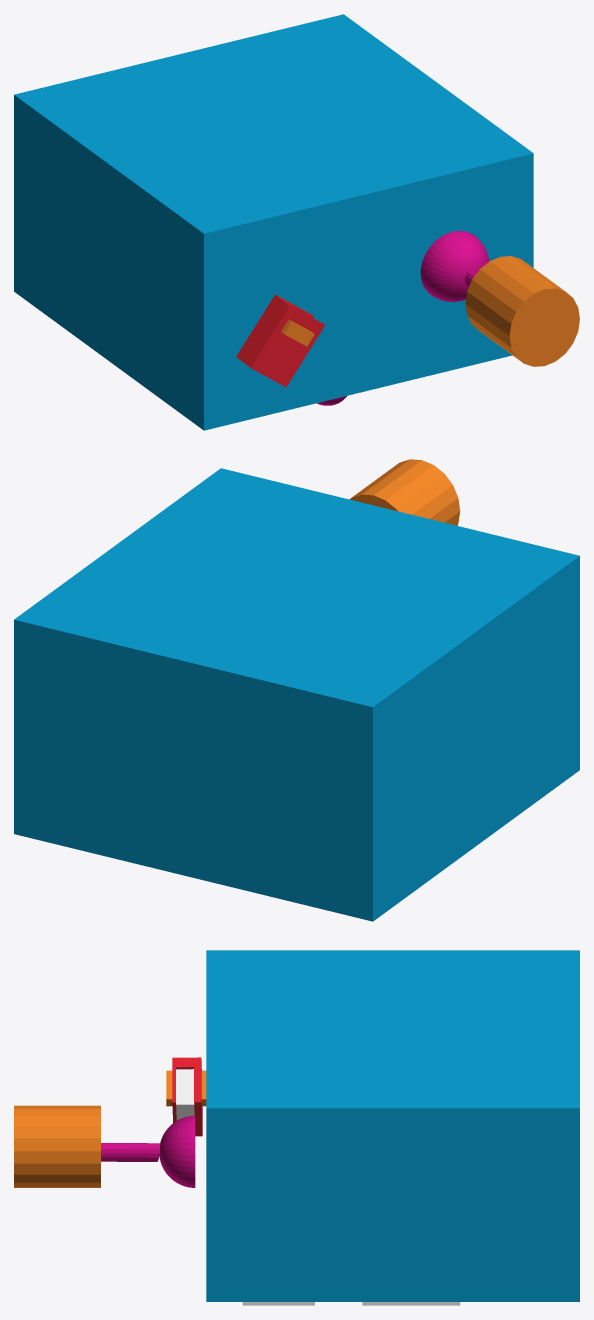
The model's file is tinker.obj.
3 renders of one model, top to bottom at view 1: azimuth 30°, elevation 25°; view 2: azimuth 150°, elevation 25°; view 3: azimuth 270°, elevation 25°, orthographic. The views are drawn at different scales.
Visible parts, largest first — view 1: group_0_40919, group_0_16089887, group_0_15277357, group_0_14093196; view 2: group_0_40919, group_0_16089887; view 3: group_0_40919, group_0_16089887, group_0_14093196, group_0_16448250, group_0_15277357.
Part boxes in pixels (box(x1,y1,x2,y2)): group_0_40919: box(14, 14, 533, 430); group_0_16089887: box(281, 256, 579, 366); group_0_15277357: box(236, 294, 325, 387); group_0_14093196: box(317, 231, 488, 405); group_0_40919: box(14, 468, 579, 921); group_0_16089887: box(349, 459, 460, 525); group_0_40919: box(206, 950, 579, 1301); group_0_16089887: box(14, 1070, 206, 1187); group_0_14093196: box(101, 1115, 195, 1187); group_0_16448250: box(176, 1069, 460, 1305); group_0_15277357: box(172, 1057, 202, 1136).
Size of the model in its own units: 103 by 70.86 by 156.
